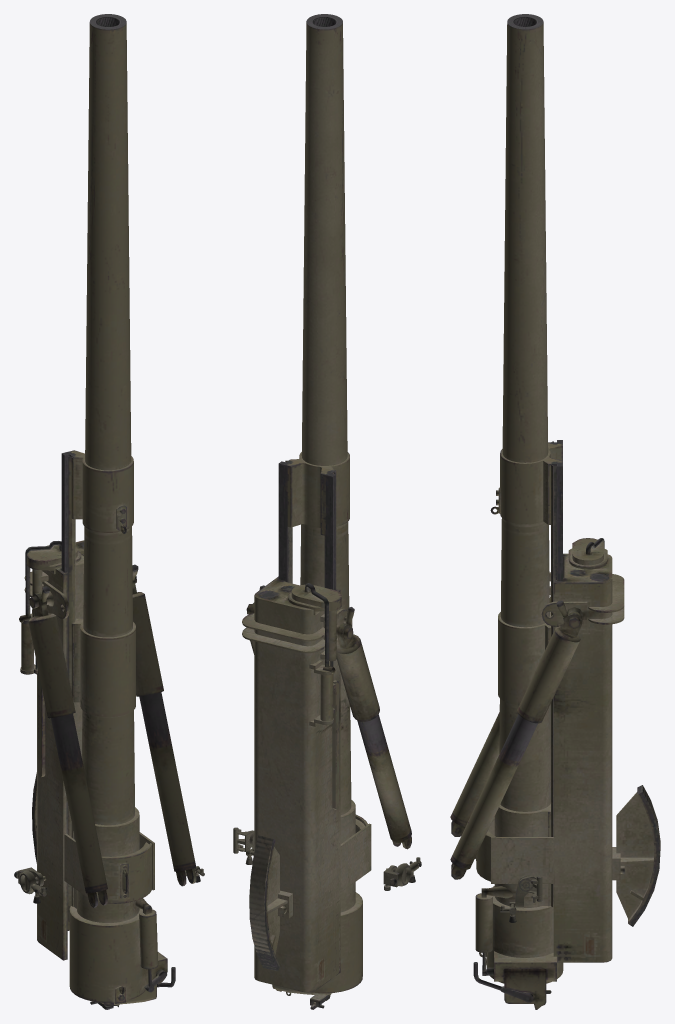
File: Gun_02.glb
3 renders of one model, left to right at view 1: azimuth 30°, elevation 25°; view 2: azimuth 150°, elevation 25°; view 3: azimuth 270°, elevation 25°, orthographic.
Parts seen in each view (by area): view 1: set_0_group_0; view 2: set_0_group_0; view 3: set_0_group_0.
Boxes of the visible parts, x1,y1,x2,y2 form: set_0_group_0: (14, 14, 204, 1009); set_0_group_0: (233, 14, 421, 1009); set_0_group_0: (450, 14, 660, 1009).
Bounding box in the file's own units: 1.33 × 7.35 × 1.44.
Materials: 1 (1 with a texture image).
